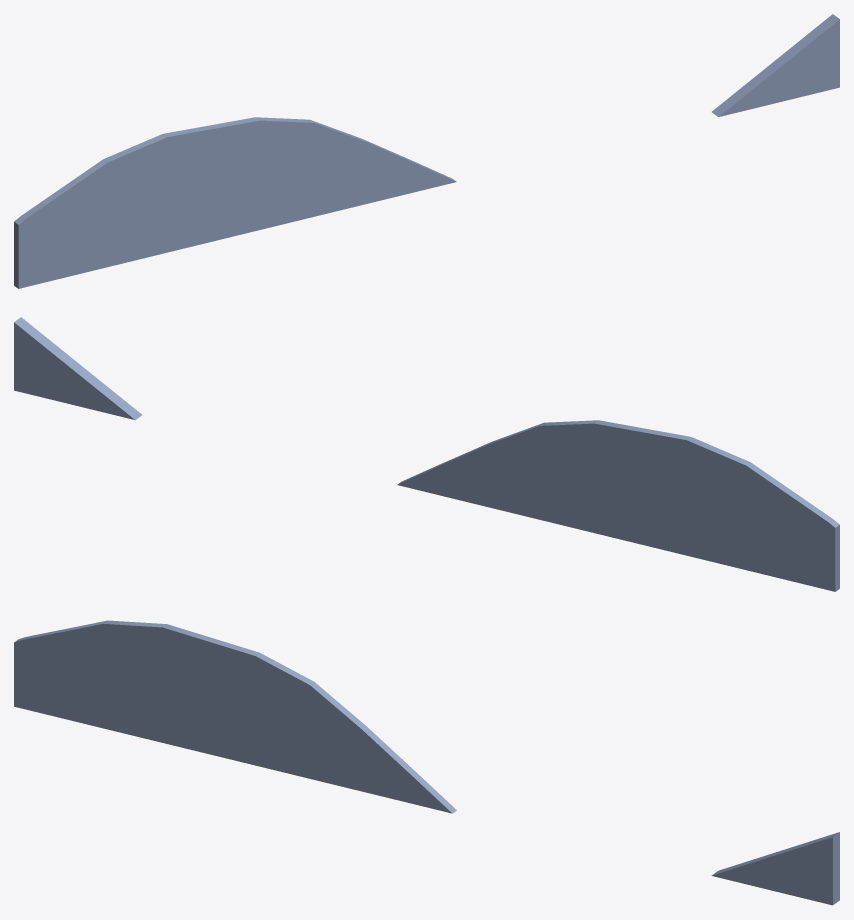
Rendered from frame_0076.glb.
3 renders of one model, top to bottom at view 1: azimuth 30°, elevation 25°; view 2: azimuth 150°, elevation 25°; view 3: azimuth 330°, elevation 25°, orthographic.
Visible parts, largest first — view 1: export_trees_001.002; view 2: export_trees_001.002; view 3: export_trees_001.002.
Part boxes in pixels (left/top/right/bottom): export_trees_001.002: left=14, top=14, right=839, bottom=288; export_trees_001.002: left=14, top=317, right=839, bottom=591; export_trees_001.002: left=14, top=620, right=839, bottom=905.
Size of the model in its own units: 0.4327 by 0.0582 by 0.00652.
